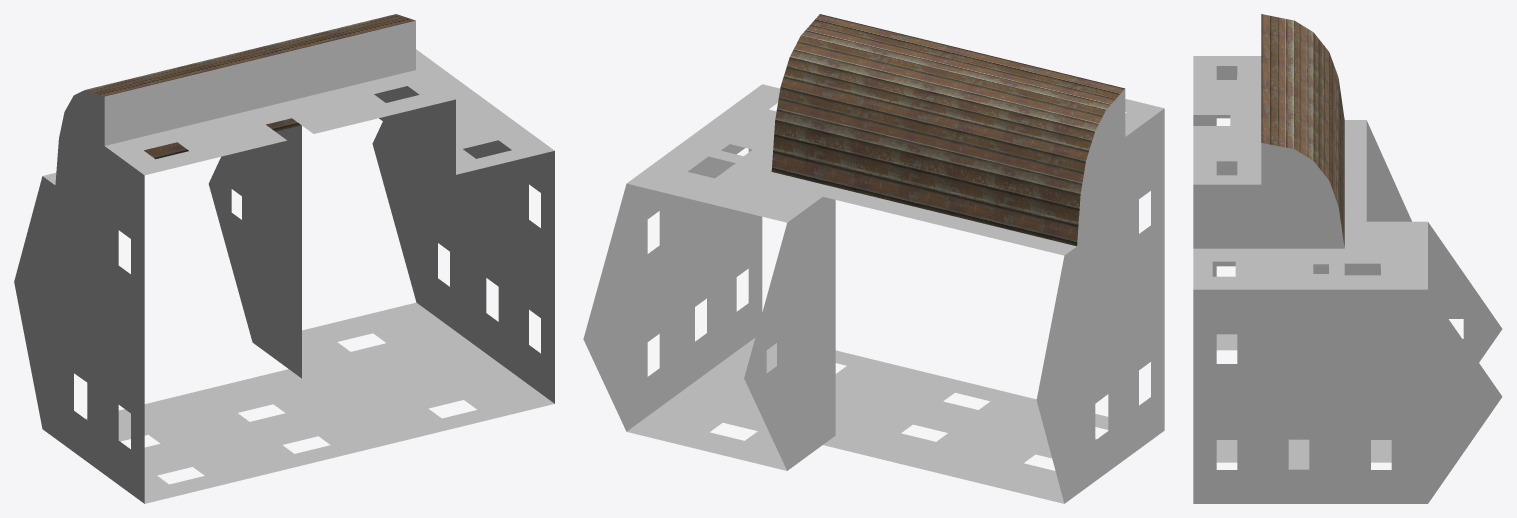
File: Pirate_Bar_Exterior_C.fbx
3 renders of one model, left to right at view 1: azimuth 30°, elevation 25°; view 2: azimuth 150°, elevation 25°; view 3: azimuth 270°, elevation 25°, orthographic. The views are drawn at different scales.
Parts seen in each view (by area): view 1: Pirate_Bar_Exterior_C; view 2: Pirate_Bar_Exterior_C; view 3: Pirate_Bar_Exterior_C.
Part boxes in pixels (x1,y1,x2,y2): Pirate_Bar_Exterior_C: (14, 14, 554, 503); Pirate_Bar_Exterior_C: (583, 14, 1164, 503); Pirate_Bar_Exterior_C: (1193, 14, 1502, 503).
Size of the model in its own units: 23 by 20.26 by 17.71.
